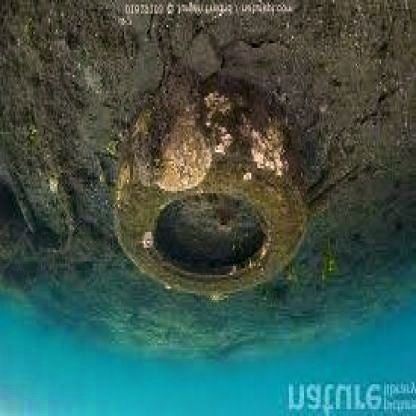tire: (107, 130, 324, 325)
